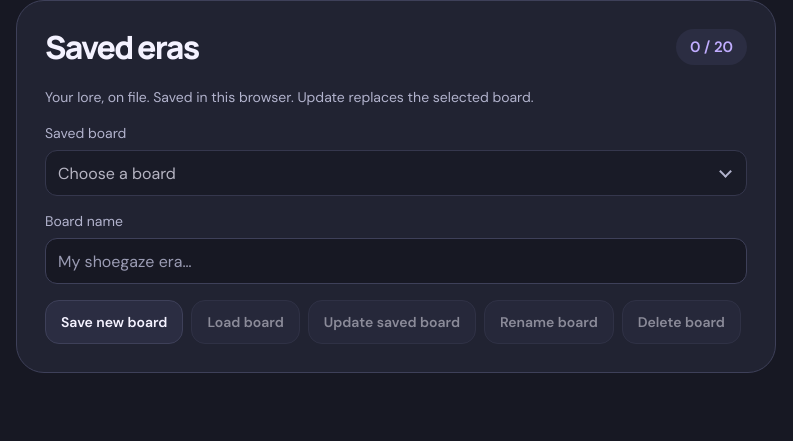
Test case: Saved boards › preserves spaces while typing names and keeps snapshots saved in another tab
Type "Late " into the field labelled "Board name" at (396, 261), box [45,238,747,284]
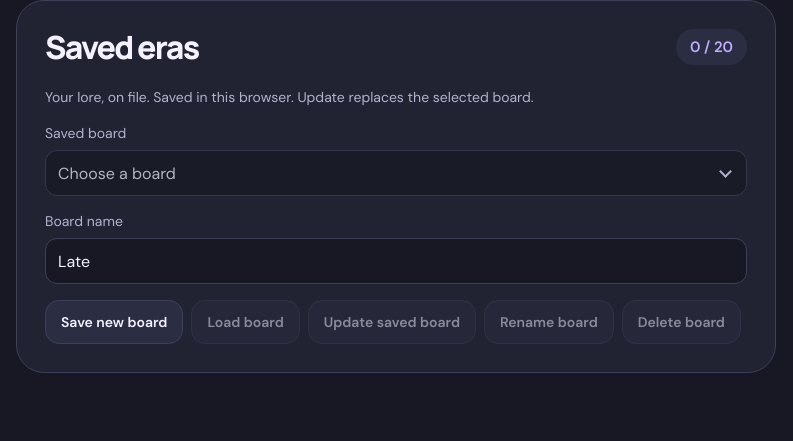
Replace the text in the field labelled "Board name" with "Late nights" at (396, 261), box [45,238,747,284]
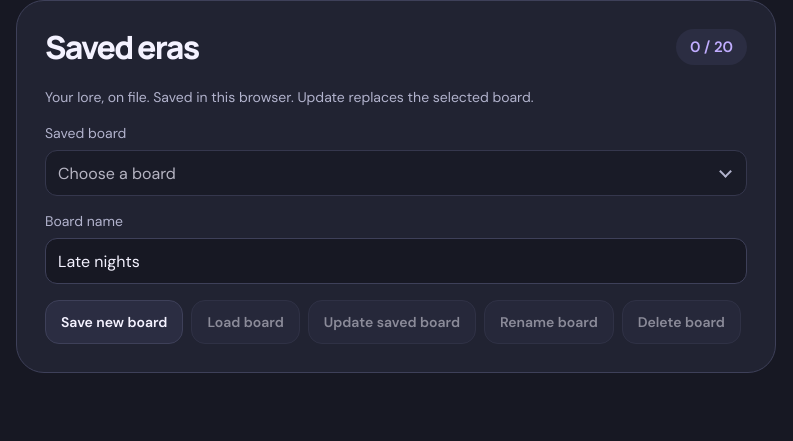
Click the button "Save new board" at (114, 322), box [45,300,183,344]
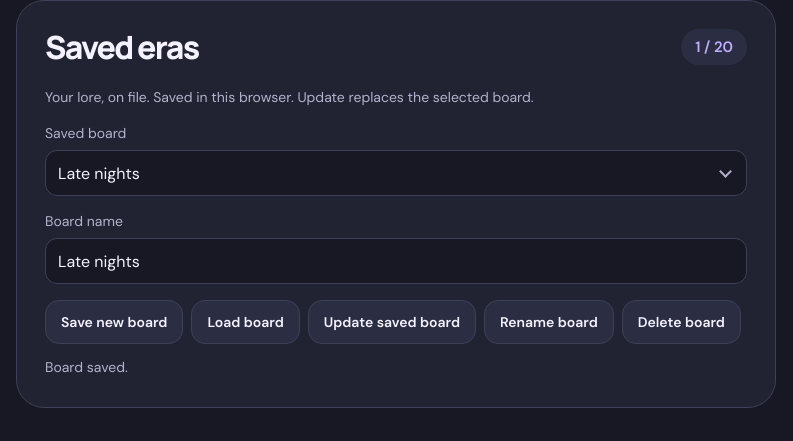
Replace the text in the field labelled "Board name" with "New snapshot" at (396, 261), box [45,238,747,284]
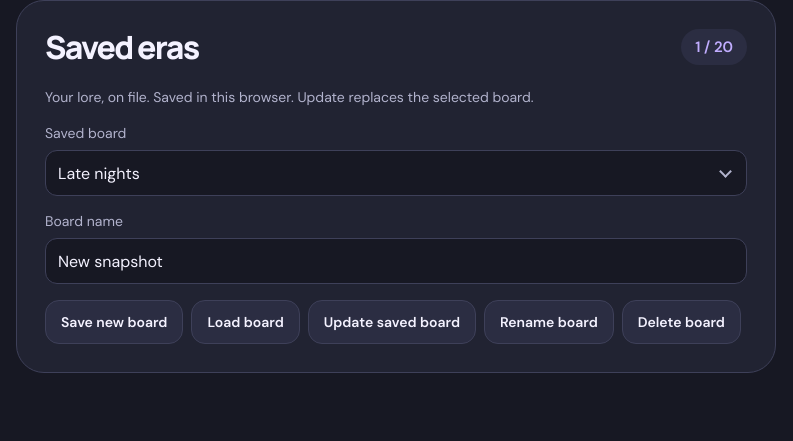
Click the button "Save new board" at (114, 322), box [45,300,183,344]
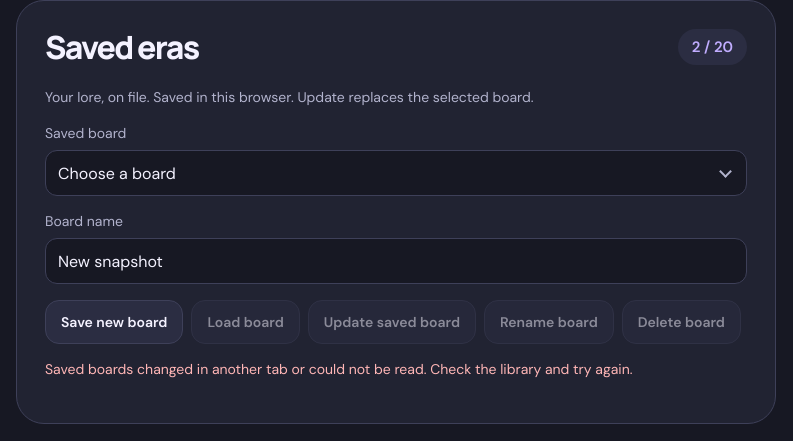
Check: the message shows "changed in another tab", box [45,360,632,378]
